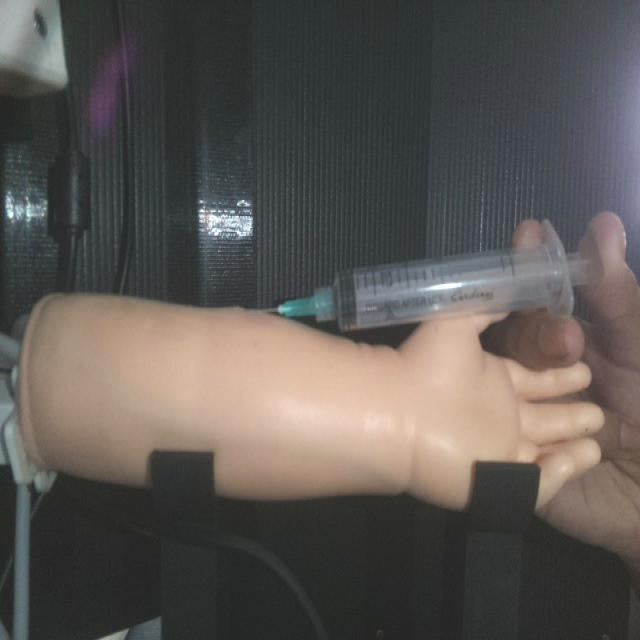Below 15 degrees: (260, 220, 599, 335)
